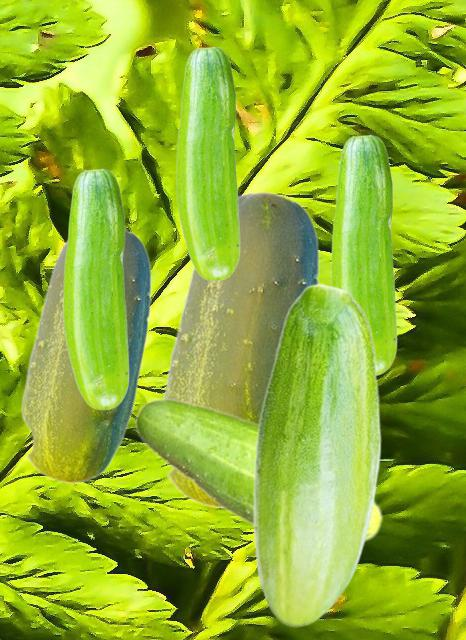cucumber: (160, 190, 318, 508), (252, 283, 380, 626), (134, 397, 383, 543), (20, 229, 150, 483), (331, 134, 396, 375), (63, 168, 128, 409), (176, 46, 239, 280)
